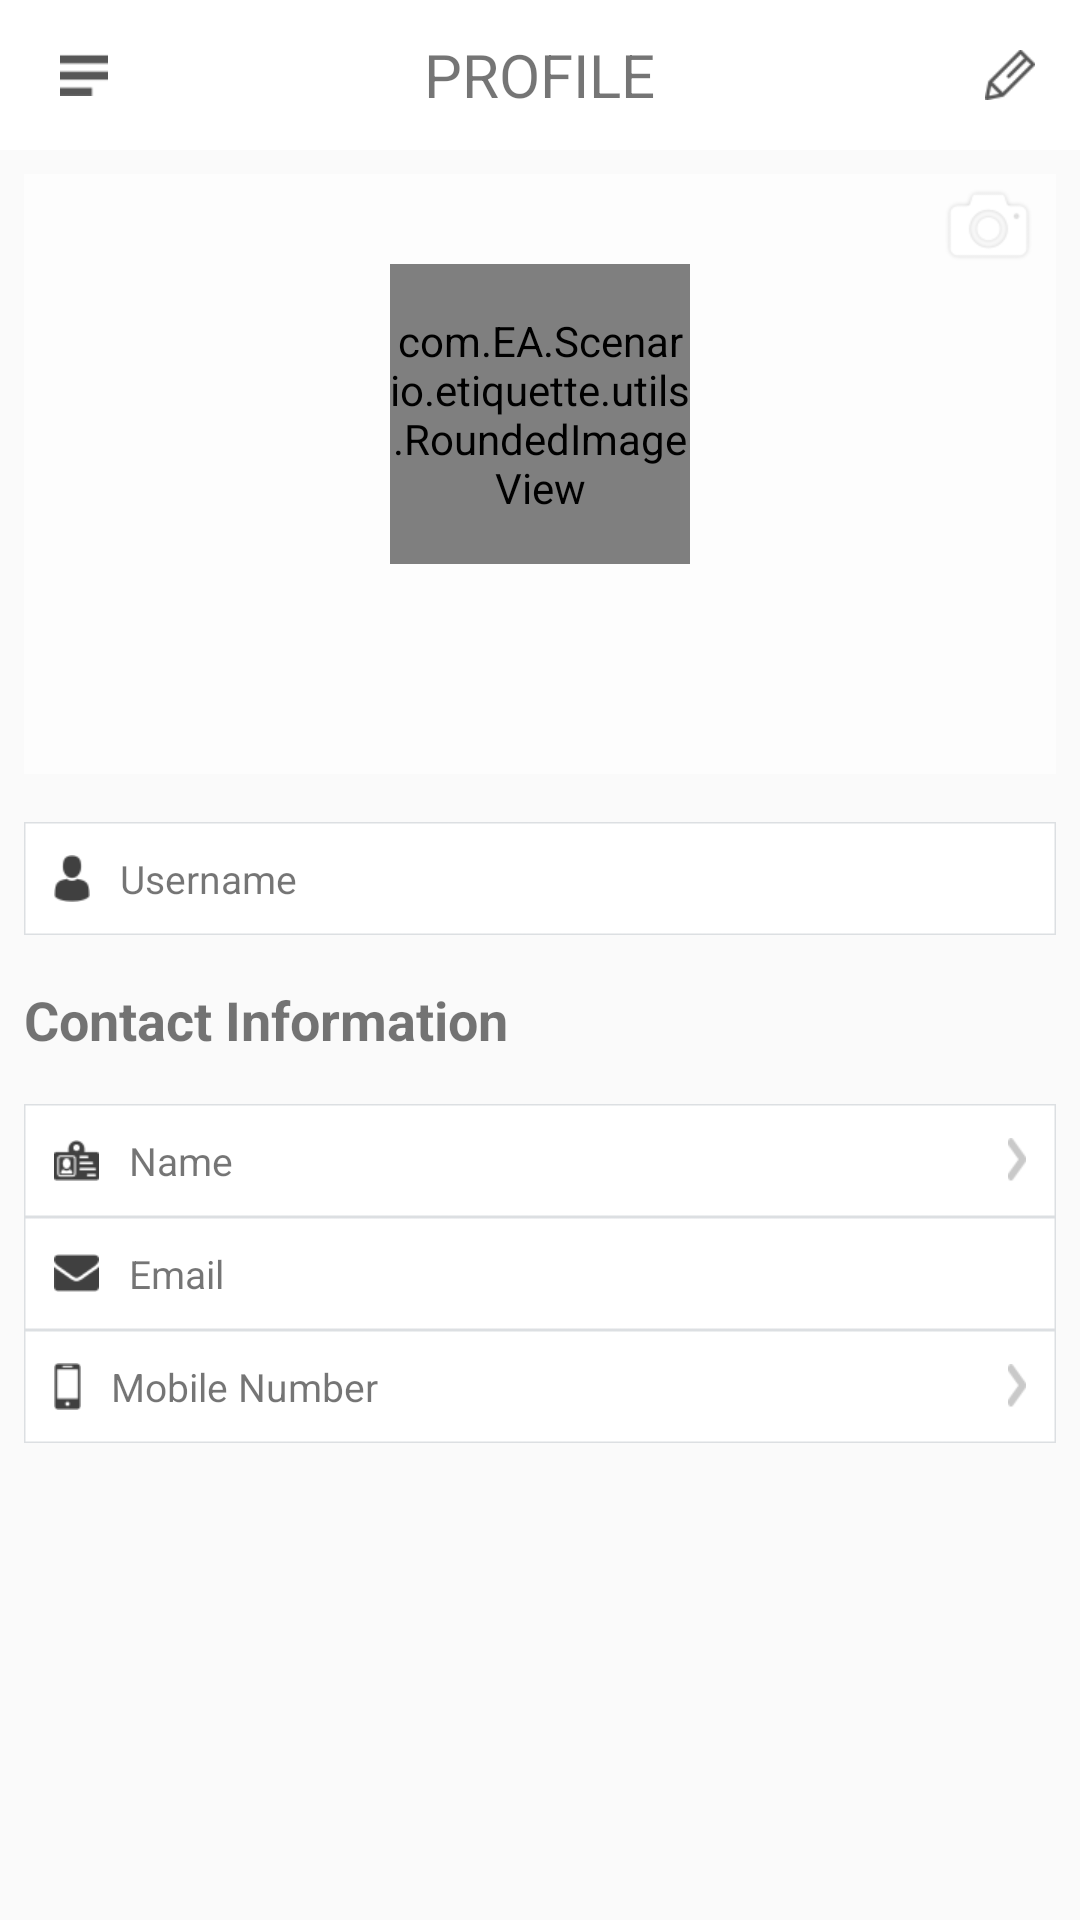

Screen size 1080w x 1920h. Icon name, then its center in pixels as (x,y):
menu: (84,75)
